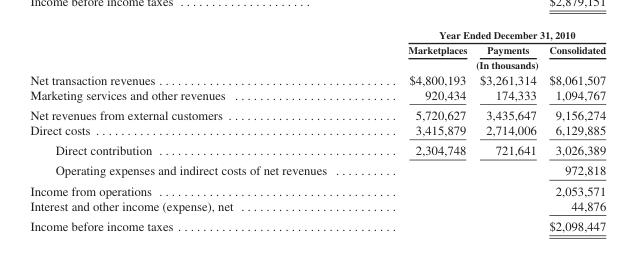table: (29, 28, 605, 232)
table column: (29, 28, 366, 232), (366, 28, 472, 232), (472, 28, 542, 232), (542, 28, 605, 232)
table column header: (29, 28, 605, 71)
table row: (29, 139, 605, 160), (29, 160, 605, 180), (29, 86, 605, 104), (29, 104, 605, 122), (29, 197, 605, 215), (29, 122, 605, 139), (29, 180, 605, 197), (29, 215, 605, 232), (29, 42, 605, 57), (29, 71, 605, 86), (29, 28, 605, 42), (29, 57, 605, 71)
table spanning cell: (366, 28, 605, 42), (366, 57, 605, 71)
